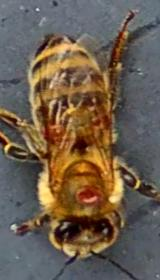varroa_mite: (73, 171, 105, 217), (38, 112, 68, 142)
